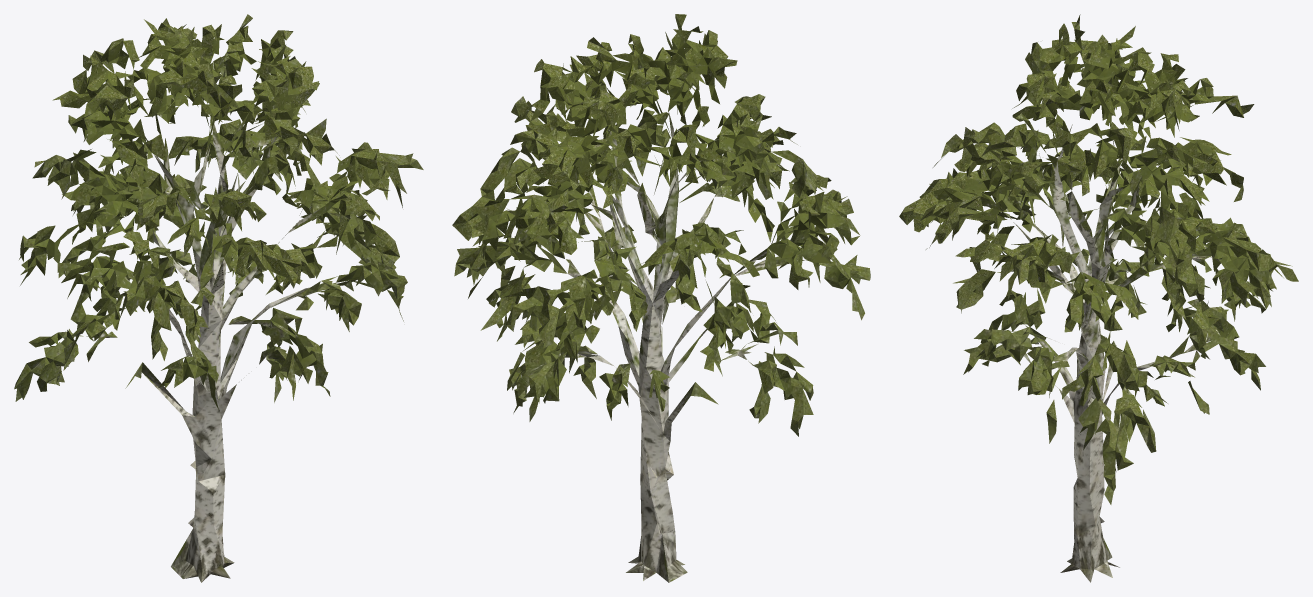
The model's file is birch.glb.
The picture shows the model from 3 angles, left to right: view 1: azimuth 30°, elevation 25°; view 2: azimuth 150°, elevation 25°; view 3: azimuth 270°, elevation 25°; orthographic projection. The views are drawn at different scales.
Visible parts, largest first — view 1: output_unwrapped; view 2: output_unwrapped; view 3: output_unwrapped.
Part boxes in pixels (x1,y1,x2,y2): output_unwrapped: (14,14,423,582); output_unwrapped: (452,14,870,582); output_unwrapped: (899,14,1298,582).
Bounding box in the file's own units: 8.86 × 13 × 8.75.
Materials: 1 (1 with a texture image).
